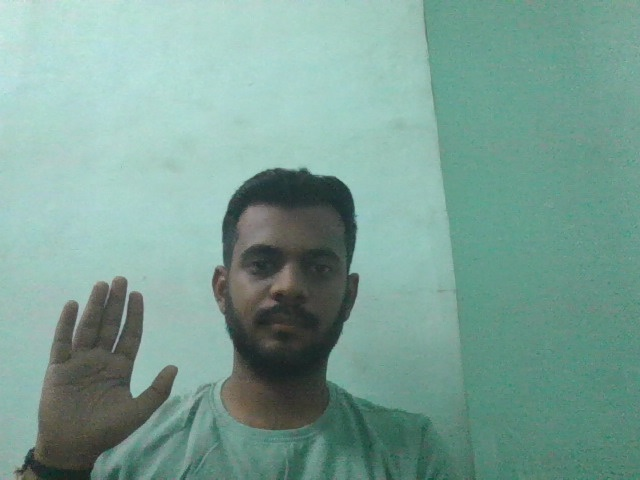hello: (39, 260, 196, 452)
